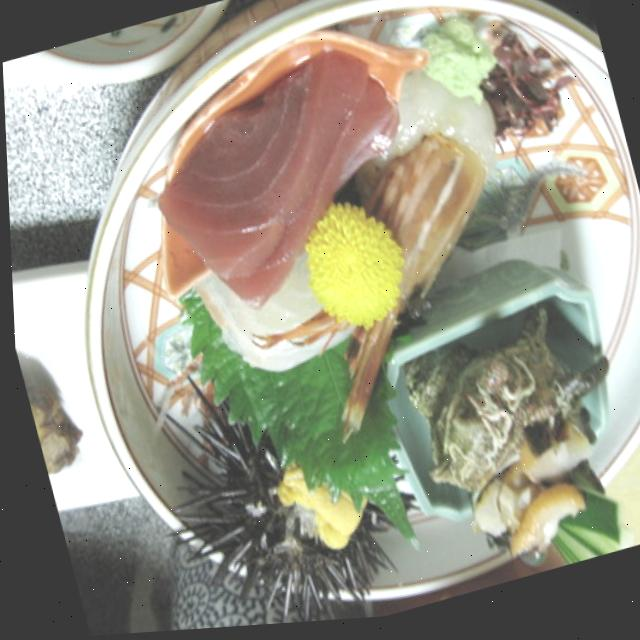刺身生食: (68, 11, 575, 413)
